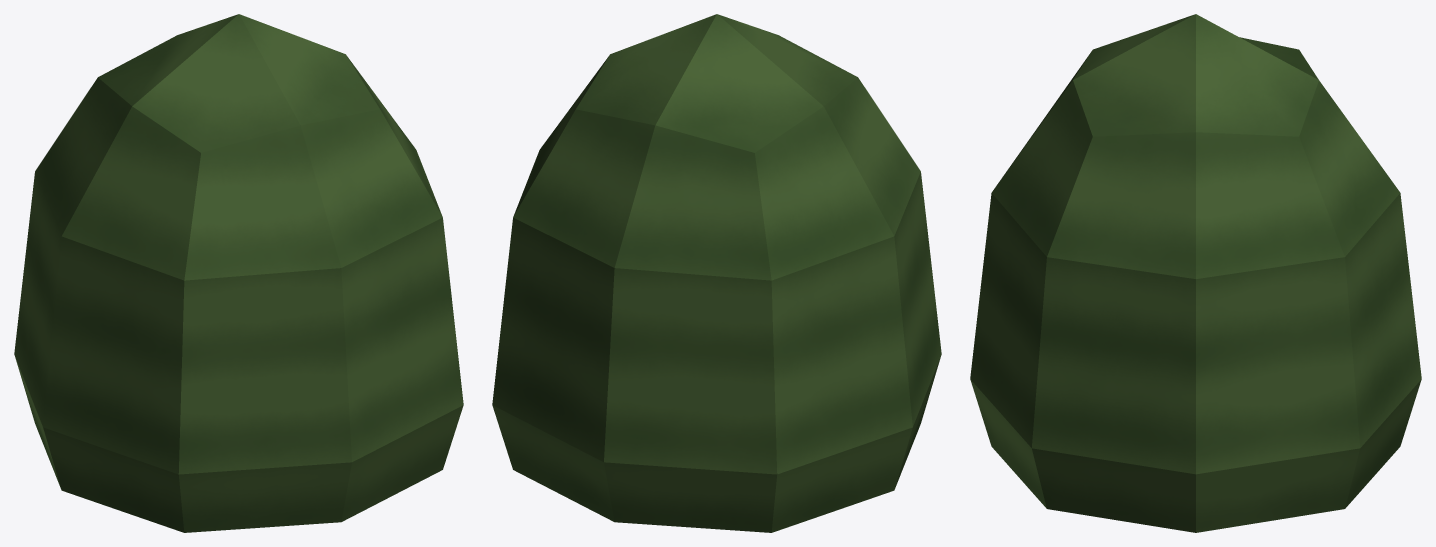
Rendered from Bush 2.fbx.
The picture shows the model from 3 angles, left to right: view 1: azimuth 30°, elevation 25°; view 2: azimuth 150°, elevation 25°; view 3: azimuth 270°, elevation 25°; orthographic projection.
Parts seen in each view (by area): view 1: Bush 2 EXP; view 2: Bush 2 EXP; view 3: Bush 2 EXP.
Part boxes in pixels (bbox=[...]): Bush 2 EXP: bbox=[14, 14, 463, 532]; Bush 2 EXP: bbox=[492, 14, 941, 532]; Bush 2 EXP: bbox=[970, 14, 1421, 532].
Bounding box in the file's own units: 66.56 × 71.19 × 66.56.
Materials: 1 (1 with a texture image).
